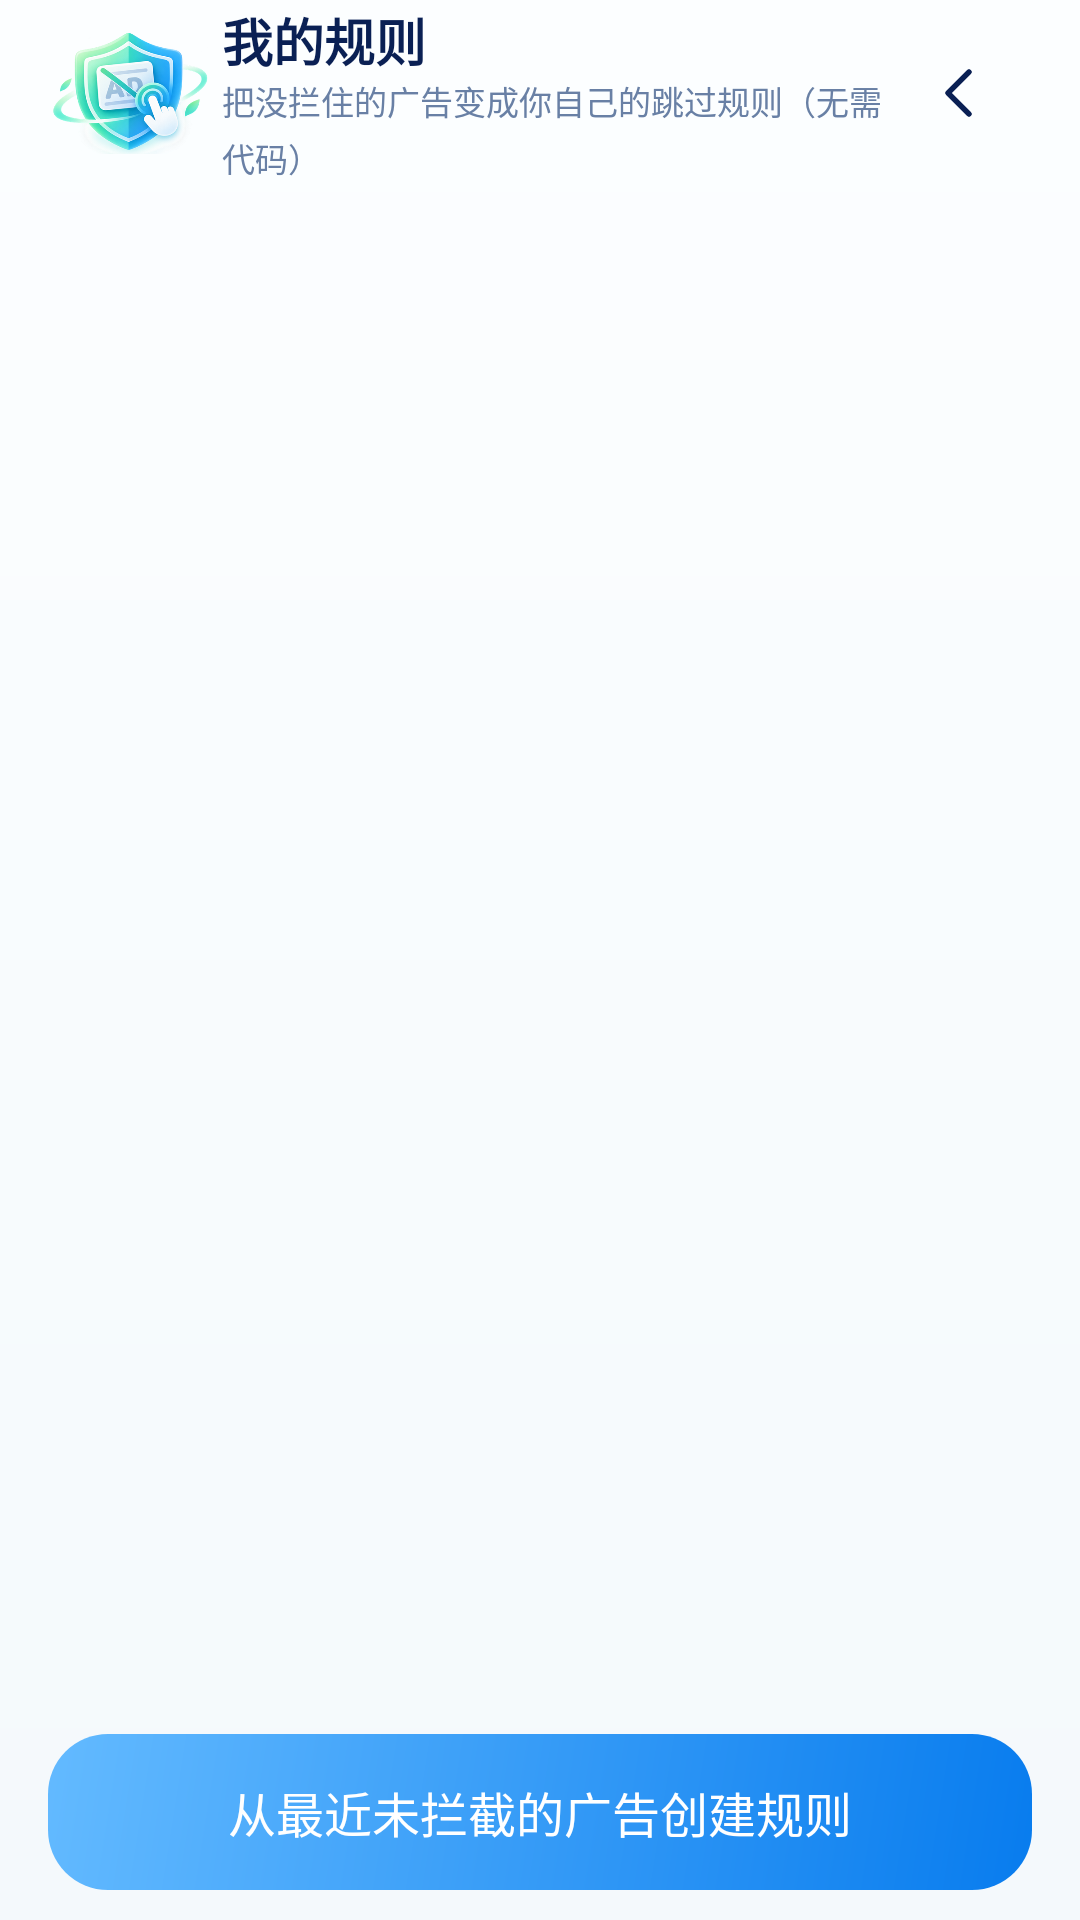

Icon bounding boxes for this 1080x1920 phone screenshot, format (x1, y1, x2, y2):
轻护标志: (53, 33, 207, 152)
返回: (945, 69, 972, 117)
